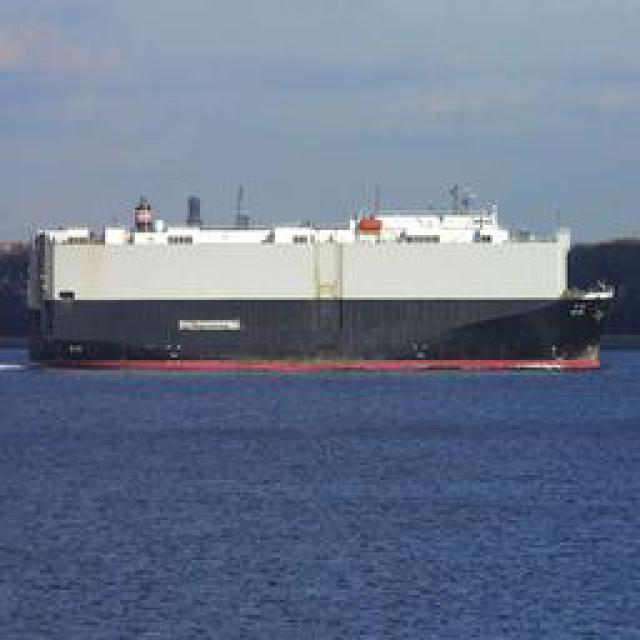Ship: (16, 212, 626, 375)
